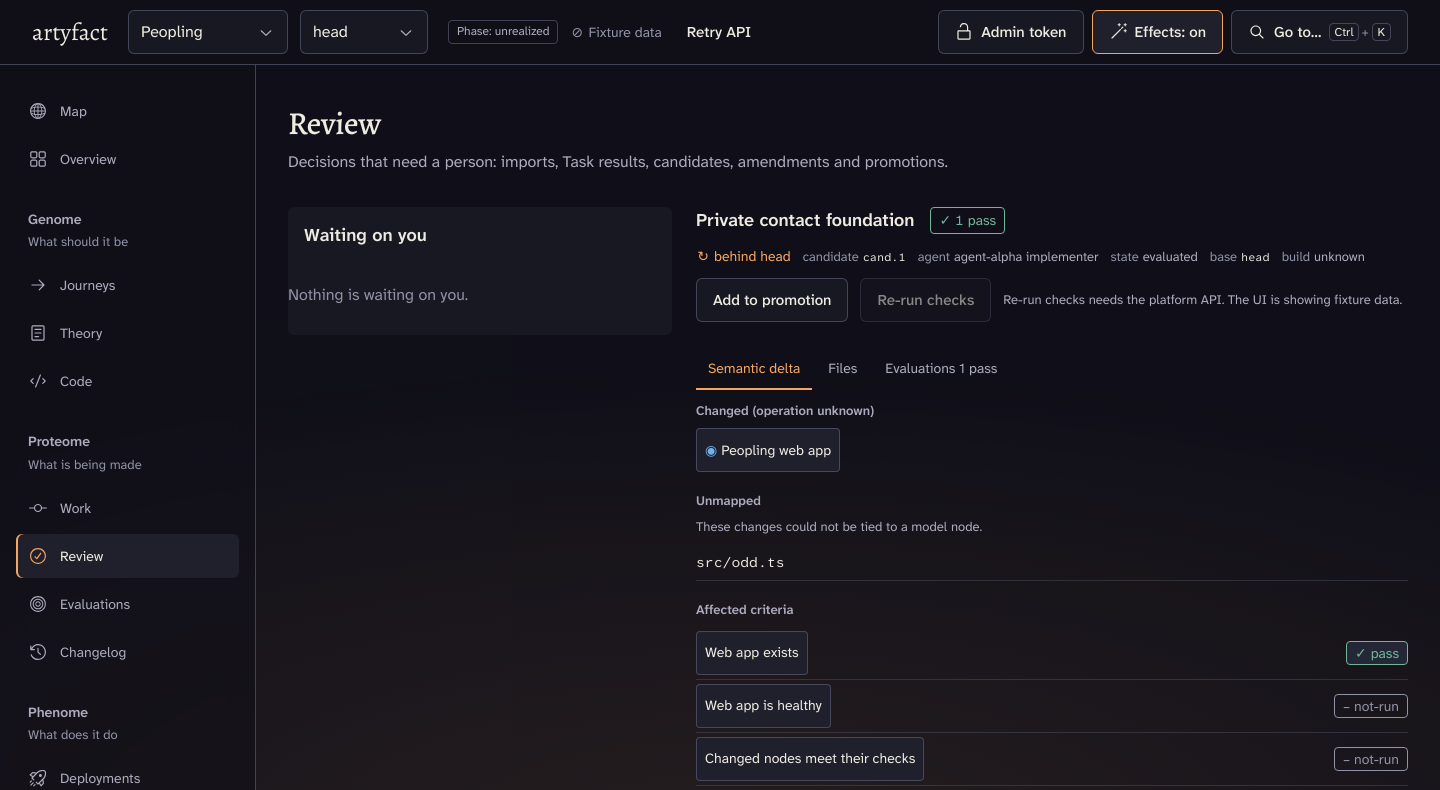
CandidateReview (on Review) › lists this candidate's evaluations and empty-states honestly
Click the tab "Evaluations 1 pass" at [941, 368], box [873,346,1009,390]
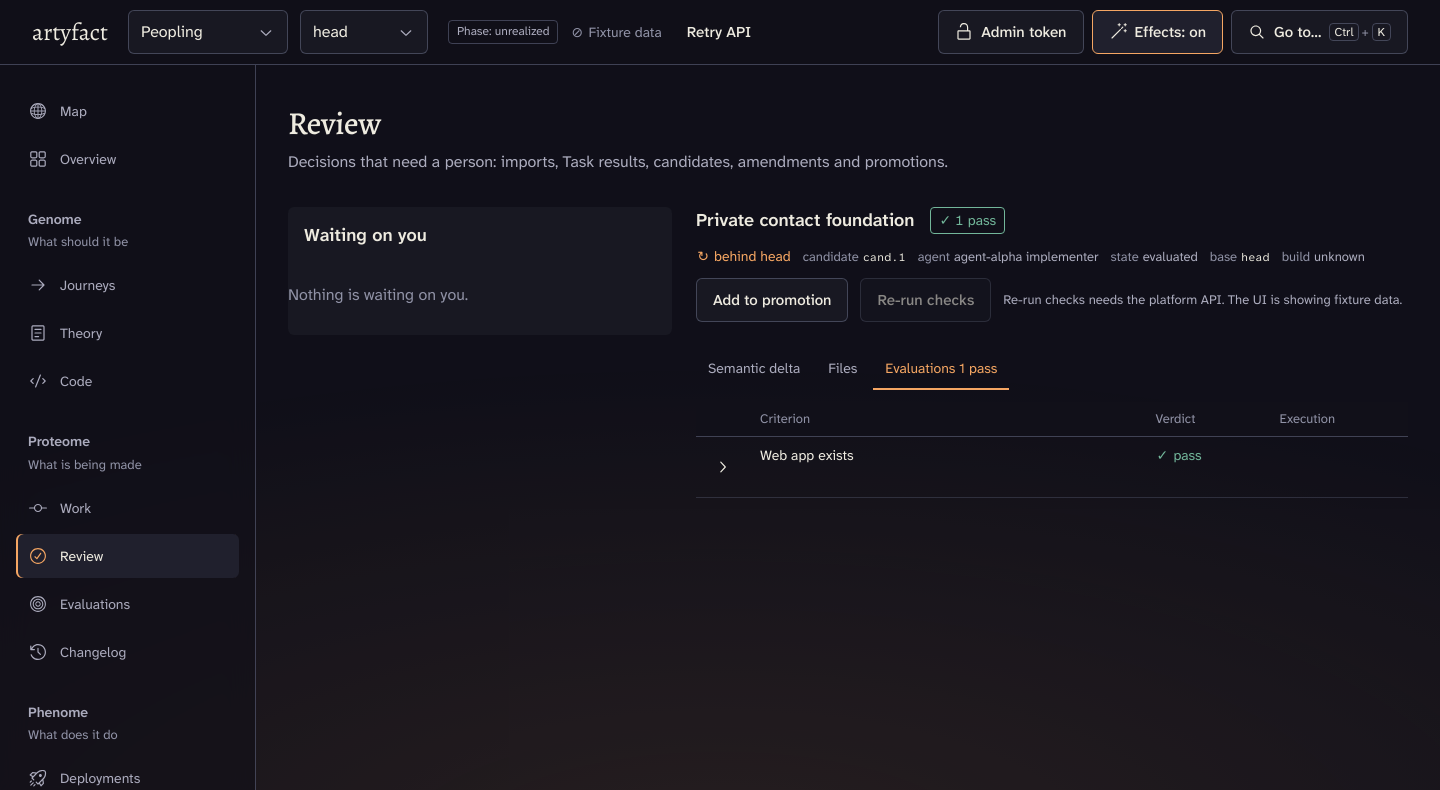
expect the number of rows is 2: met, box [696,402,1408,437]; [696,437,1408,498]
